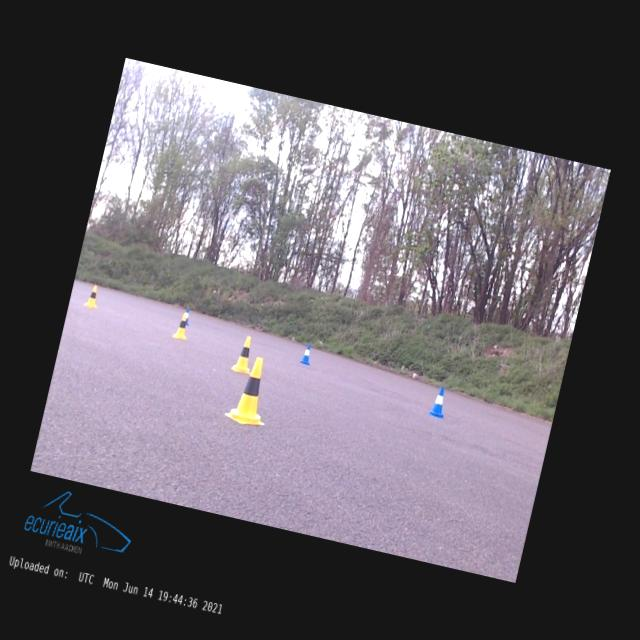blue_cone: (429, 384, 449, 418), (300, 344, 314, 364), (183, 308, 191, 324)
yellow_cone: (224, 352, 278, 428), (230, 334, 258, 374), (172, 311, 192, 339), (84, 283, 100, 308)
